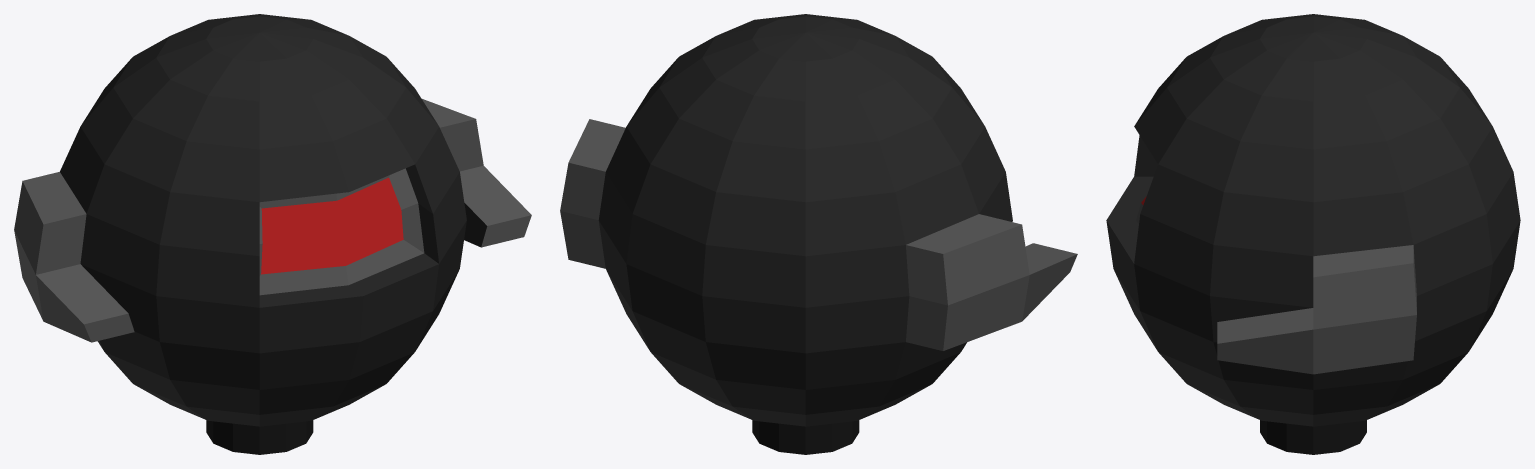
Rendered from DroneEnemy_Model.fbx.
The picture shows the model from 3 angles, left to right: view 1: azimuth 30°, elevation 25°; view 2: azimuth 150°, elevation 25°; view 3: azimuth 270°, elevation 25°; orthographic projection.
Visible parts, largest first — view 1: Drone; view 2: Drone; view 3: Drone.
Boxes of the visible parts, <box> form: Drone: <box>14,14,531,454</box>; Drone: <box>560,14,1077,454</box>; Drone: <box>1106,14,1520,454</box>.
Bounding box in the file's own units: 78.03 × 66.54 × 62.49.
Materials: 1 (1 with a texture image).
